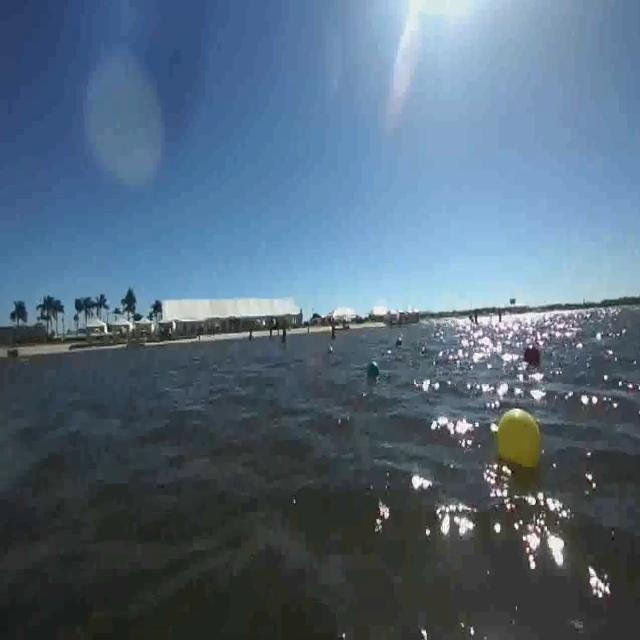yellow-buoy: (494, 404, 544, 471)
